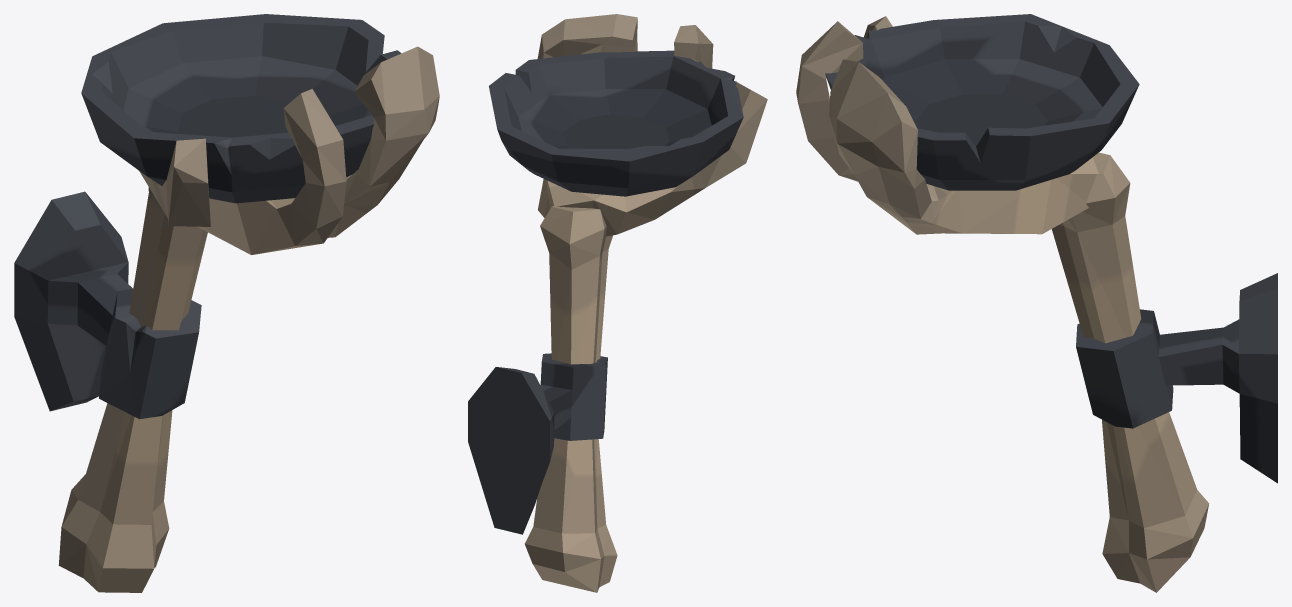
File: SM_Prop_Wall_Torch_01.fbx
The picture shows the model from 3 angles, left to right: view 1: azimuth 30°, elevation 25°; view 2: azimuth 150°, elevation 25°; view 3: azimuth 270°, elevation 25°; orthographic projection. The views are drawn at different scales.
Visible parts, largest first — view 1: SM_Prop_Wall_Torch_01; view 2: SM_Prop_Wall_Torch_01; view 3: SM_Prop_Wall_Torch_01.
Boxes of the visible parts, box(x1,y1,x2,y2) form: SM_Prop_Wall_Torch_01: box(14, 14, 439, 592); SM_Prop_Wall_Torch_01: box(468, 14, 767, 592); SM_Prop_Wall_Torch_01: box(796, 14, 1277, 592).
Size of the model in its own units: 21.66 by 43.65 by 33.94.
